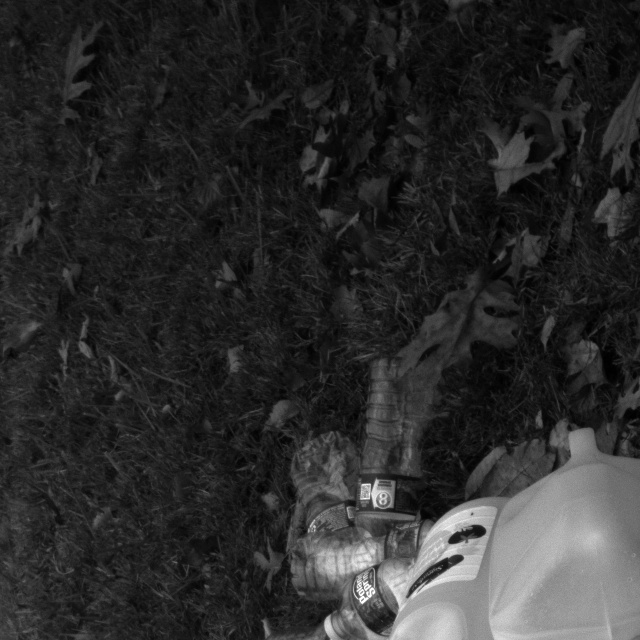bottle: (346, 343, 447, 539), (273, 508, 429, 601), (307, 568, 431, 640)
can: (490, 422, 640, 640), (378, 472, 514, 640)
